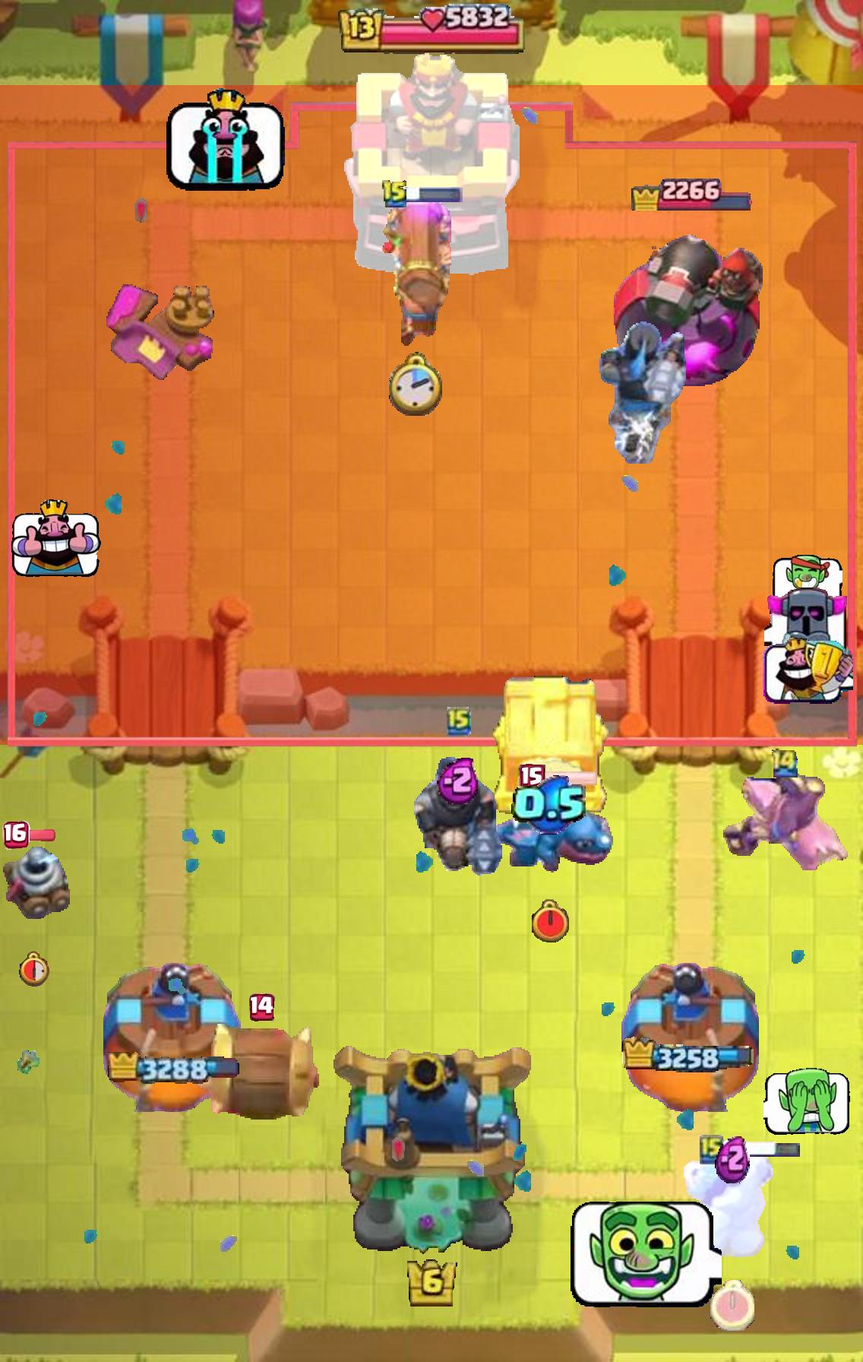bar: (542, 769, 598, 787), (27, 829, 55, 841)
bar-level: (3, 821, 31, 850), (518, 764, 545, 793), (249, 994, 275, 1022)
